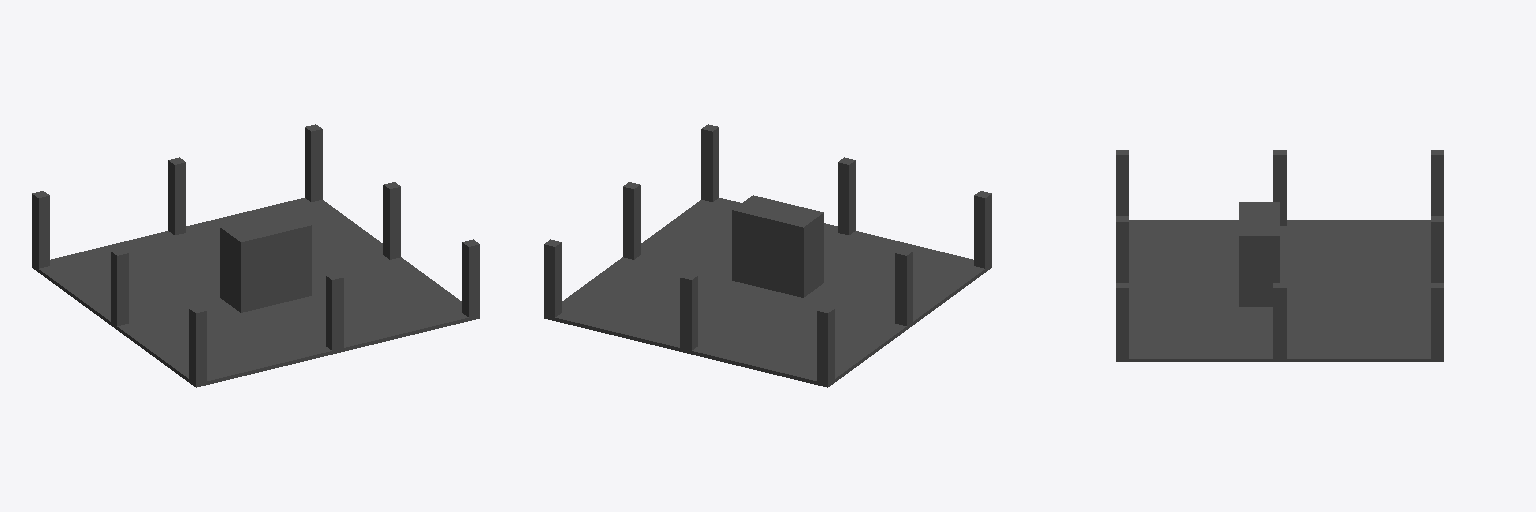
The model's file is GroundFloor.obj.
3 views of the same model, side by side, from view 1: azimuth 30°, elevation 25°; view 2: azimuth 150°, elevation 25°; view 3: azimuth 270°, elevation 25° (orthographic).
Parts seen in each view (by area): view 1: Mesh_0_Mesh_0.003; view 2: Mesh_0_Mesh_0.003; view 3: Mesh_0_Mesh_0.003.
Boxes of the visible parts, <box> form: Mesh_0_Mesh_0.003: <box>32,124,479,387</box>; Mesh_0_Mesh_0.003: <box>544,124,991,387</box>; Mesh_0_Mesh_0.003: <box>1116,150,1443,361</box>.
Size of the model in its own units: 20 by 5 by 20.